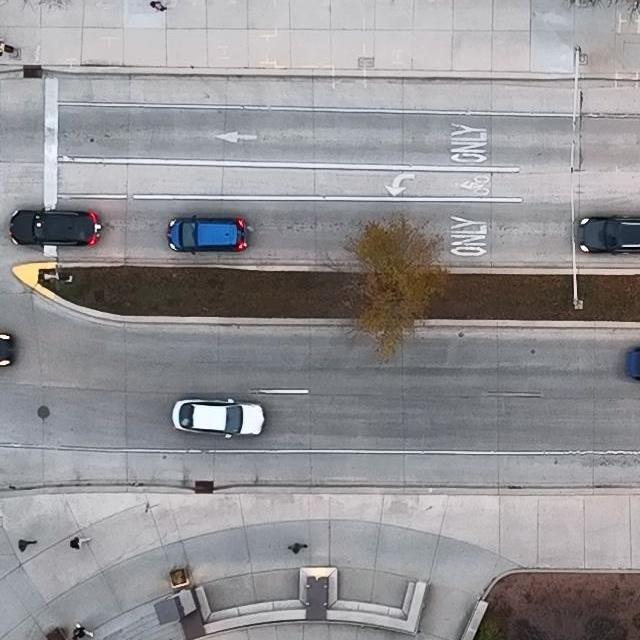car: (172, 396, 264, 440), (167, 214, 248, 256), (10, 208, 101, 245), (577, 216, 640, 254)
